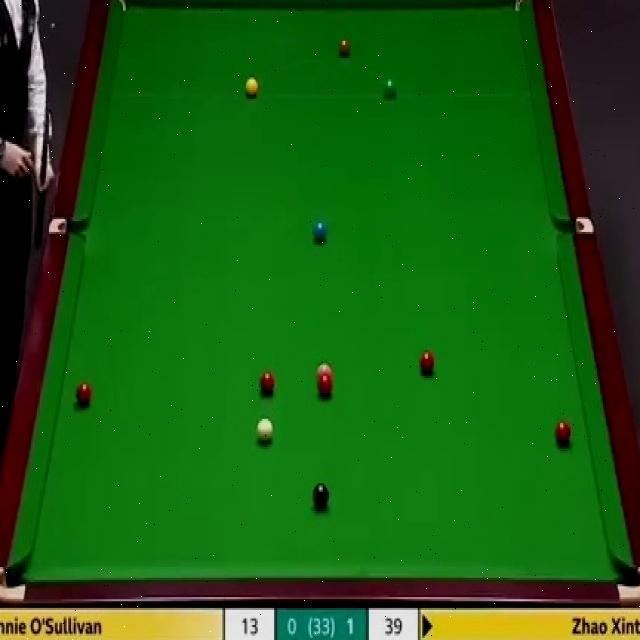black-ball: (312, 482, 329, 508)
blue-ball: (313, 222, 326, 244)
brown-ball: (336, 38, 352, 59)
green-ball: (382, 76, 396, 99)
pink-ball: (316, 363, 329, 384)
red-ball: (554, 419, 571, 448), (74, 384, 92, 407), (418, 351, 434, 375), (318, 379, 332, 402), (260, 374, 274, 396)
white-ball: (254, 417, 274, 445)
yellow-ball: (245, 76, 258, 97)
